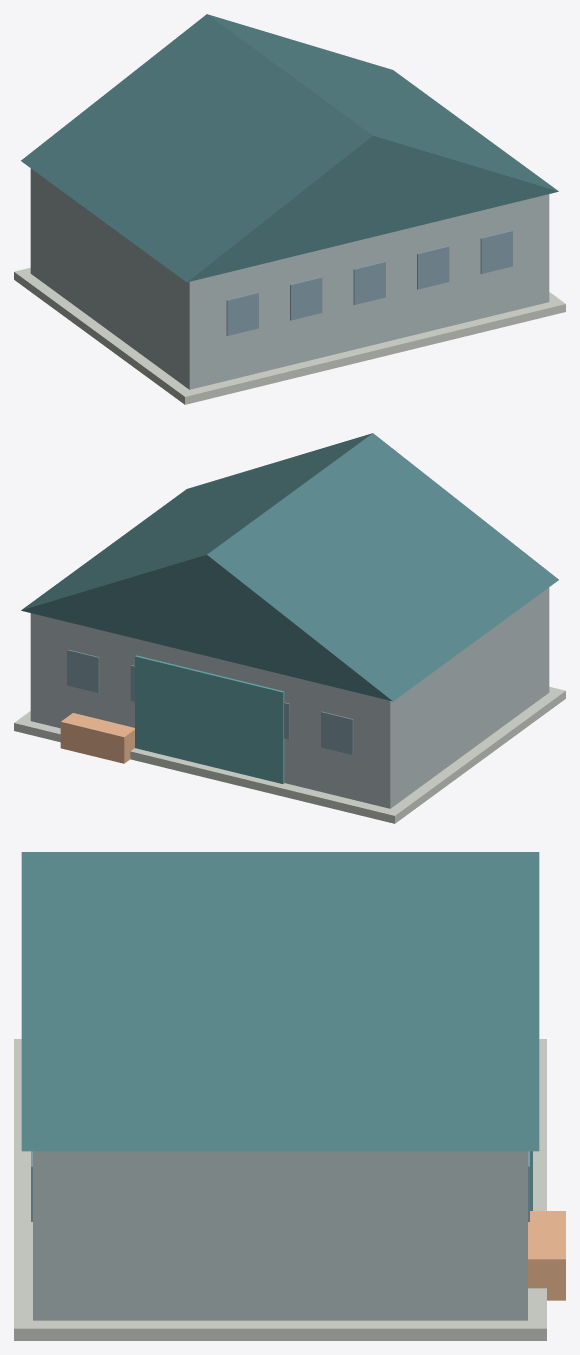
File: maintenance_shop.glb
The picture shows the model from 3 angles, top to bottom: view 1: azimuth 30°, elevation 25°; view 2: azimuth 150°, elevation 25°; view 3: azimuth 270°, elevation 25°; orthographic projection. The views are drawn at different scales.
Visible parts, largest first — view 1: maintenance_shop__roof, maintenance_shop__walls, maintenance_shop__plinth, maintenance_shop__window.002, maintenance_shop__window.004, maintenance_shop__window.006, maintenance_shop__window, maintenance_shop__window.008; view 2: maintenance_shop__roof, maintenance_shop__walls, maintenance_shop__garage_door, maintenance_shop__plinth, maintenance_shop__toolbench, maintenance_shop__window.001, maintenance_shop__window.009; view 3: maintenance_shop__roof, maintenance_shop__walls, maintenance_shop__plinth, maintenance_shop__toolbench.
Boxes of the visible parts, bbox=[...] form: maintenance_shop__roof: bbox=[21, 14, 558, 282]; maintenance_shop__walls: bbox=[30, 168, 549, 389]; maintenance_shop__plinth: bbox=[14, 267, 565, 404]; maintenance_shop__window.002: bbox=[290, 277, 322, 320]; maintenance_shop__window.004: bbox=[353, 261, 385, 304]; maintenance_shop__window.006: bbox=[417, 246, 449, 289]; maintenance_shop__window: bbox=[226, 292, 258, 335]; maintenance_shop__window.008: bbox=[480, 230, 512, 273]; maintenance_shop__roof: bbox=[21, 433, 558, 701]; maintenance_shop__walls: bbox=[30, 587, 549, 808]; maintenance_shop__garage_door: bbox=[135, 655, 284, 783]; maintenance_shop__plinth: bbox=[14, 686, 565, 823]; maintenance_shop__toolbench: bbox=[60, 713, 134, 763]; maintenance_shop__window.001: bbox=[321, 711, 353, 754]; maintenance_shop__window.009: bbox=[67, 649, 99, 692]; maintenance_shop__roof: bbox=[21, 852, 539, 1151]; maintenance_shop__walls: bbox=[33, 1151, 527, 1320]; maintenance_shop__plinth: bbox=[14, 1039, 546, 1340]; maintenance_shop__toolbench: bbox=[528, 1211, 565, 1300].
Bounding box in the file's own units: 18 × 9.98 × 14.5.
